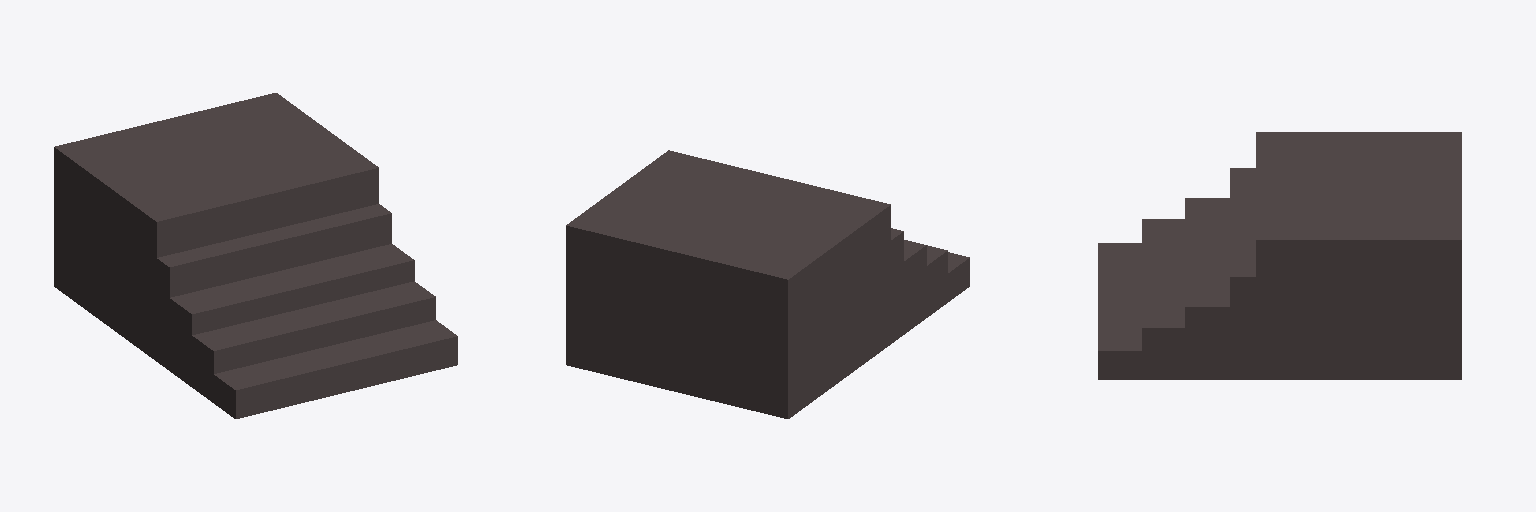
Rendered from Stone_Ground.obj.
3 views of the same model, side by side, from view 1: azimuth 30°, elevation 25°; view 2: azimuth 150°, elevation 25°; view 3: azimuth 270°, elevation 25° (orthographic).
Parts seen in each view (by area): view 1: pCube6; view 2: pCube6; view 3: pCube6.
Boxes of the visible parts, box(x1,y1,x2,y2) form: pCube6: box(54, 93, 457, 418); pCube6: box(566, 150, 969, 418); pCube6: box(1098, 132, 1461, 379).
Size of the model in its own units: 5 by 3 by 7.07.